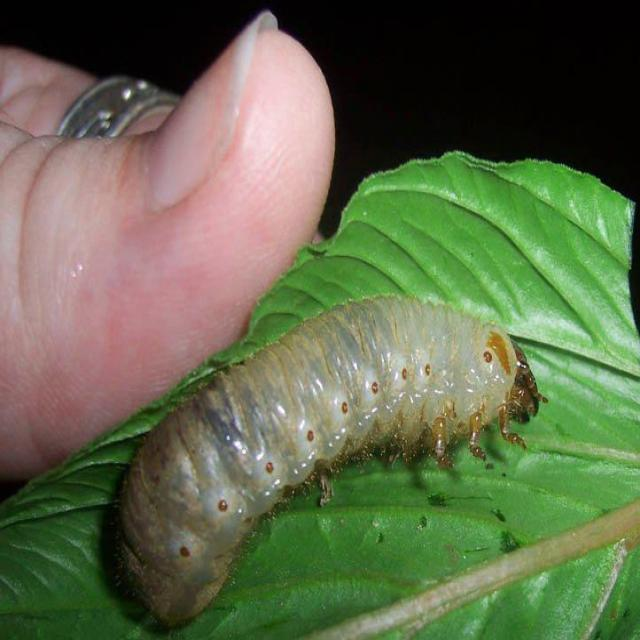grub: (104, 301, 558, 634)
